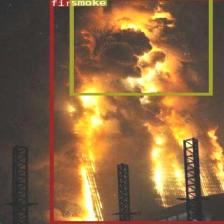fire: (49, 0, 224, 223)
smoke: (68, 0, 211, 94)
